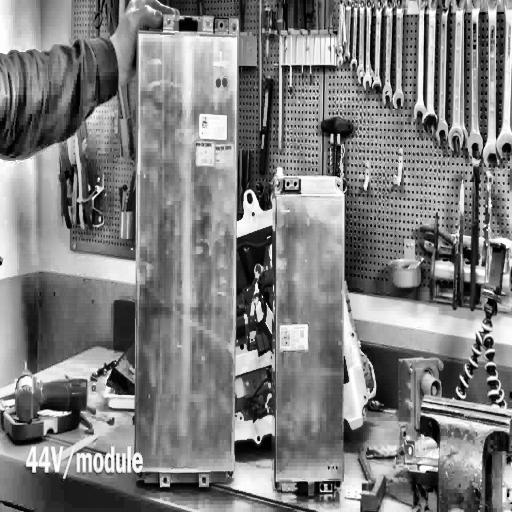battery_module: (135, 30, 238, 472), (276, 195, 344, 482)
